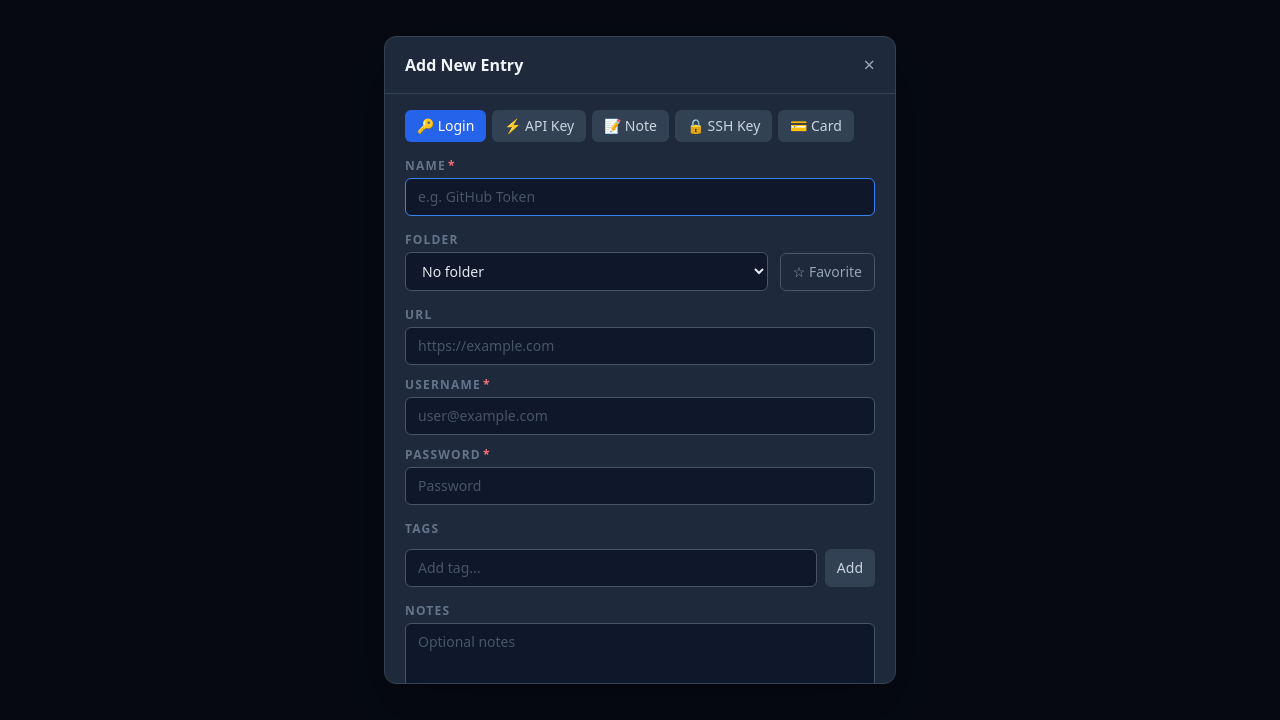
Test: EntryFormModal › shows a save error and stays open
This screenshot has width=1280, height=720.
Type "X" into the field with placeholder "e.g. GitHub Token" at (640, 197), box [405,178,875,216]
(page scrolled)
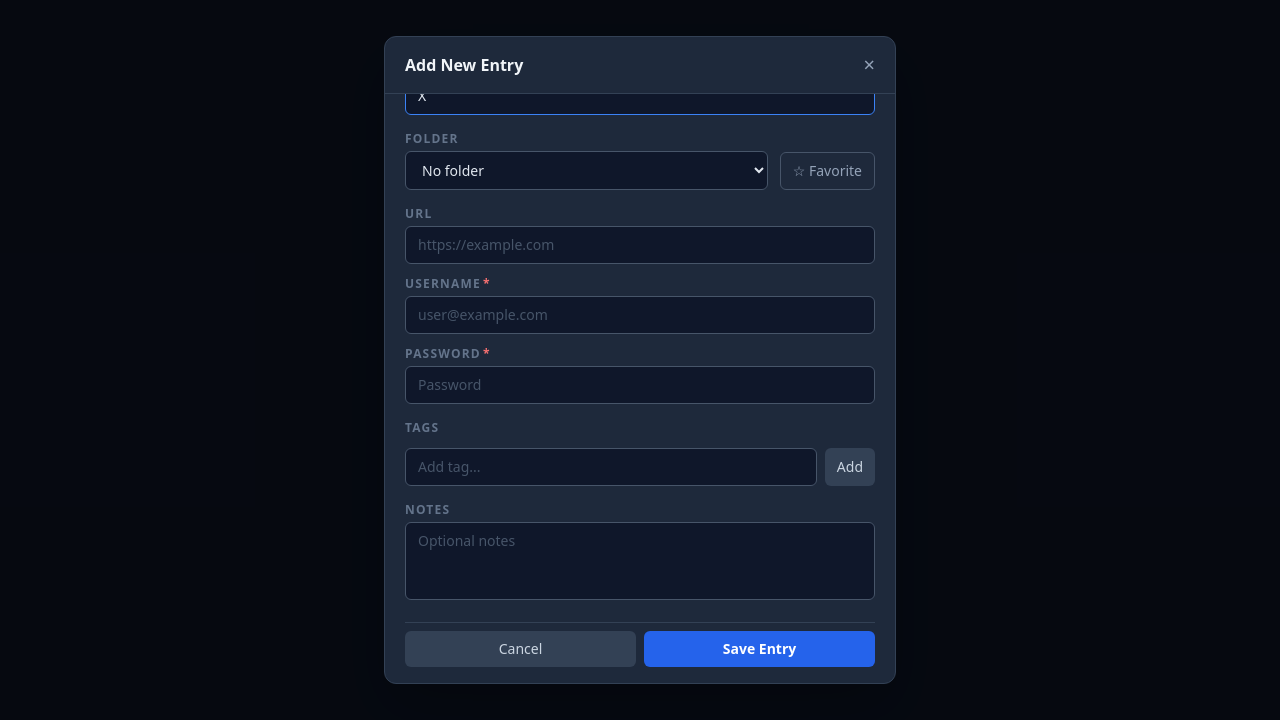
Click the button "Save Entry" at (760, 649), box [644,631,875,667]
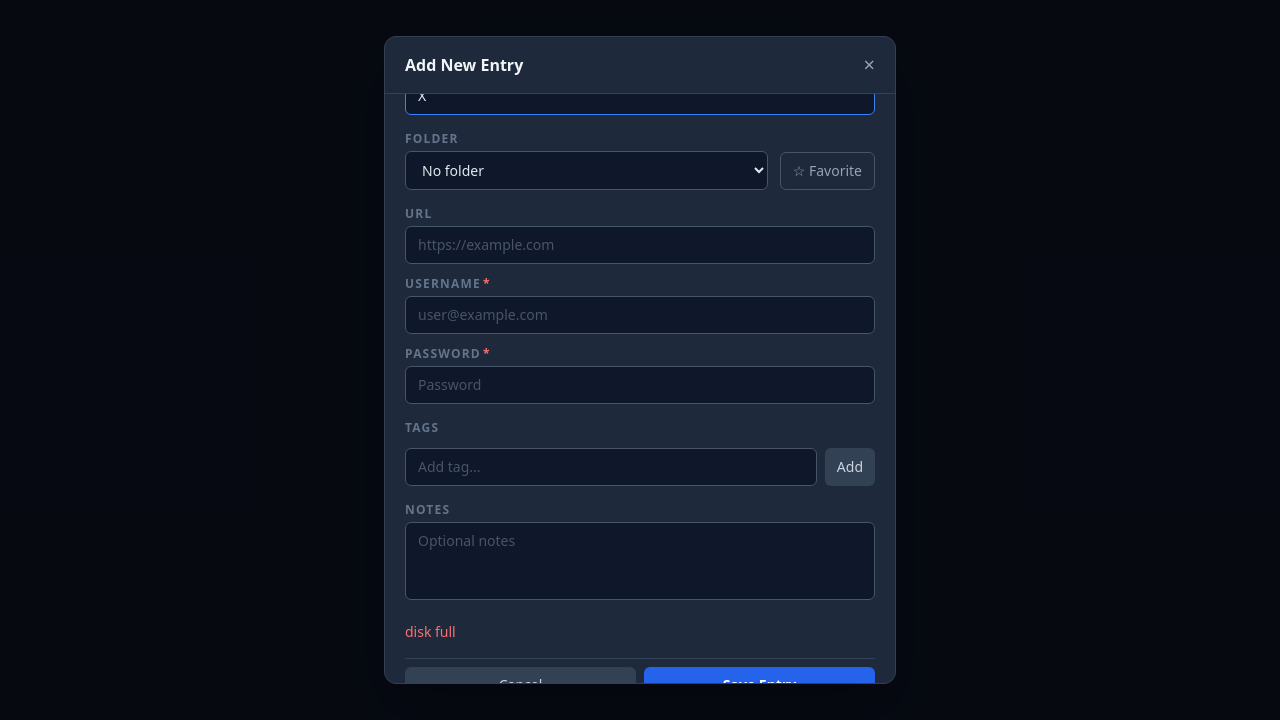
Expected: the text "disk full" is shown, [405,622,456,641]
